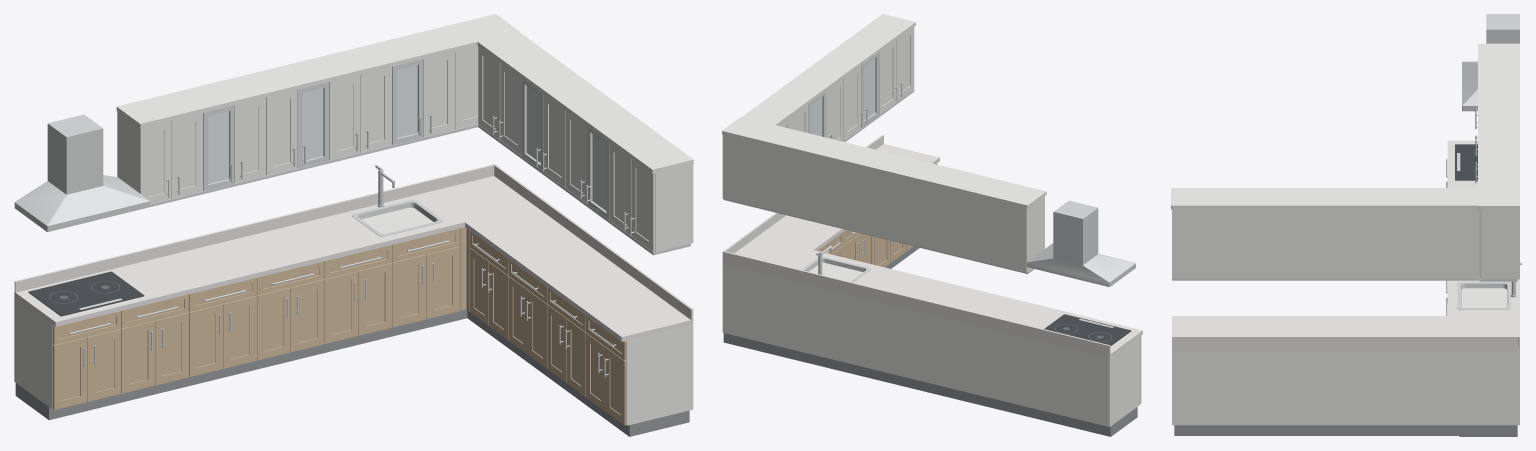
3 views of the same model, side by side, from view 1: azimuth 30°, elevation 25°; view 2: azimuth 150°, elevation 25°; view 3: azimuth 270°, elevation 25° (orthographic). The views are drawn at different scales.
Visible parts, largest first — view 1: Tủ bếp chữ L Dài cạnh chính=4200; Dài cạnh phụ=3000; Sâu tủ ; view 2: Tủ bếp chữ L Dài cạnh chính=4200; Dài cạnh phụ=3000; Sâu tủ ; view 3: Tủ bếp chữ L Dài cạnh chính=4200; Dài cạnh phụ=3000; Sâu tủ .
Boxes of the visible parts, box(x1,y1,x2,y2) form: Tủ bếp chữ L Dài cạnh chính=4200; Dài cạnh phụ=3000; Sâu tủ : box(14, 14, 693, 436); Tủ bếp chữ L Dài cạnh chính=4200; Dài cạnh phụ=3000; Sâu tủ : box(722, 14, 1142, 436); Tủ bếp chữ L Dài cạnh chính=4200; Dài cạnh phụ=3000; Sâu tủ : box(1171, 14, 1521, 436).
Bounding box in the file's own units: 4.21 × 2.2 × 3.02.
